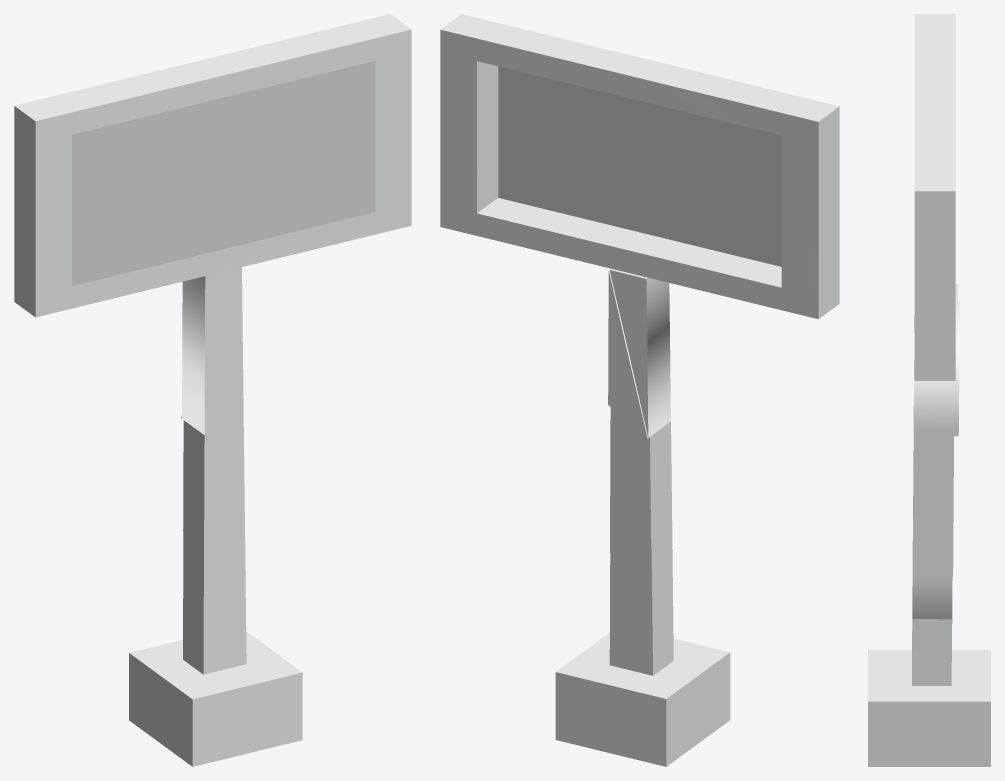
Rendered from pota__.fbx.
3 renders of one model, left to right at view 1: azimuth 30°, elevation 25°; view 2: azimuth 150°, elevation 25°; view 3: azimuth 270°, elevation 25°, orthographic. The views are drawn at different scales.
Parts seen in each view (by area): view 1: trans_pota_mavi, pota.002, pota, pota.010, pota.008, pota.011, pota.009, pota.022, pota.029, pota.032, pota.015, pota.034 (+18 smaller); view 2: trans_pota_mavi, pota.002, pota, pota.016, pota.010, pota.008, pota.011, pota.009, pota.022, pota.029, pota.032, pota.034 (+14 smaller); view 3: pota.002, pota.021, pota.010, pota, pota.009, pota.012, pota.011.
Part boxes in pixels (box(x1,y1,x2,y2)): trans_pota_mavi: box(72, 61, 375, 285); pota.002: box(14, 14, 411, 317); pota: box(129, 631, 302, 766); pota.010: box(183, 401, 245, 550); pota.008: box(182, 267, 241, 434); pota.011: box(183, 531, 245, 674); pota.009: box(181, 268, 243, 434); pota.022: box(243, 215, 410, 266); pota.029: box(35, 219, 71, 316); pota.032: box(14, 106, 71, 175); pota.015: box(238, 672, 302, 724); pota.034: box(114, 81, 244, 124); trans_pota_mavi: box(498, 66, 781, 266); pota.002: box(440, 14, 839, 318); pota: box(556, 632, 730, 766); pota.016: box(555, 672, 666, 766); pota.010: box(610, 407, 672, 552); pota.008: box(609, 268, 670, 437); pota.011: box(610, 532, 673, 675); pota.009: box(608, 270, 648, 438); pota.022: box(441, 216, 609, 268); pota.029: box(781, 220, 818, 318); pota.032: box(782, 106, 839, 176); pota.034: box(608, 82, 739, 125); pota.002: box(914, 14, 955, 380); pota.021: box(868, 701, 990, 766); pota.010: box(912, 431, 953, 576); pota: box(868, 649, 990, 701); pota.009: box(913, 301, 959, 436); pota.012: box(912, 619, 951, 685); pota.011: box(912, 576, 952, 641).
Bounding box in the file's own units: 6047 × 10147 × 1769.
Materials: 1 (1 with a texture image).
